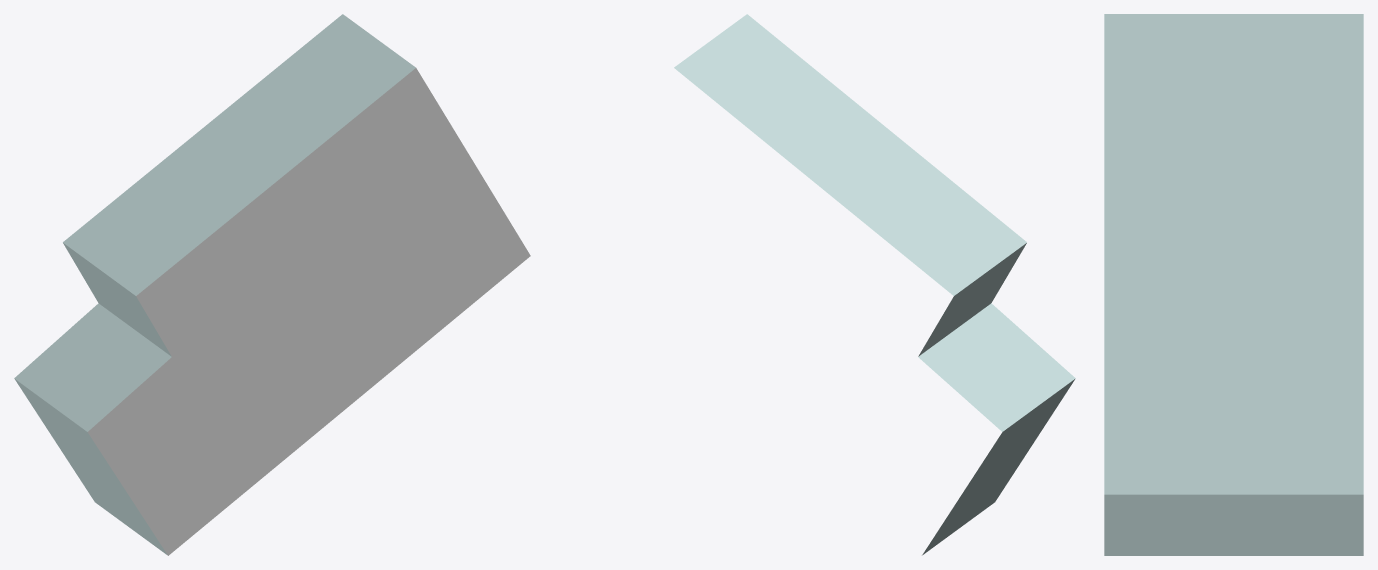
3 views of the same model, side by side, from view 1: azimuth 30°, elevation 25°; view 2: azimuth 150°, elevation 25°; view 3: azimuth 270°, elevation 25° (orthographic). The views are drawn at different scales.
Visible parts, largest first — view 1: 0_1_1_3_1_3_3_3_1; view 2: 0_1_1_3_1_3_3_3_1; view 3: 0_1_1_3_1_3_3_3_1.
Boxes of the visible parts, x1,y1,x2,y2 form: 0_1_1_3_1_3_3_3_1: (14, 14, 530, 555); 0_1_1_3_1_3_3_3_1: (674, 14, 1075, 555); 0_1_1_3_1_3_3_3_1: (1104, 14, 1363, 555).
Bounding box in the file's own units: 10.46 × 9.64 × 3.
